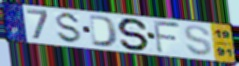7: (25, 7, 51, 41)
D: (87, 14, 120, 49)
F: (152, 19, 183, 55)
S: (116, 17, 151, 52), (183, 24, 214, 57), (55, 11, 83, 45)
